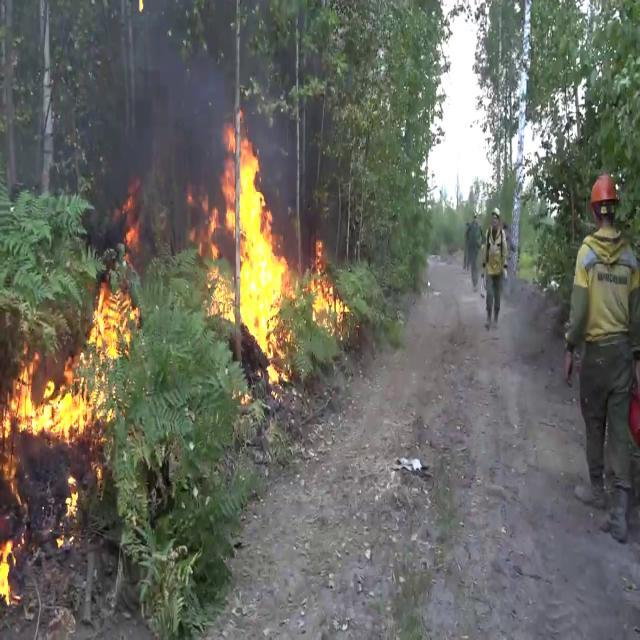Fire: (205, 113, 348, 378), (0, 274, 142, 456), (88, 276, 142, 364), (304, 237, 348, 333), (0, 533, 20, 607)
Smoke: (88, 2, 232, 240)
